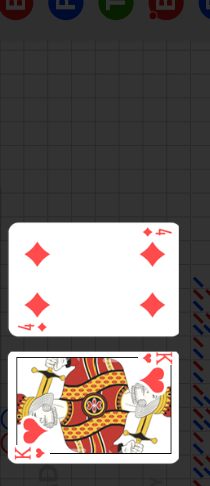4D: (141, 226, 172, 238)
KH: (13, 445, 47, 461)
